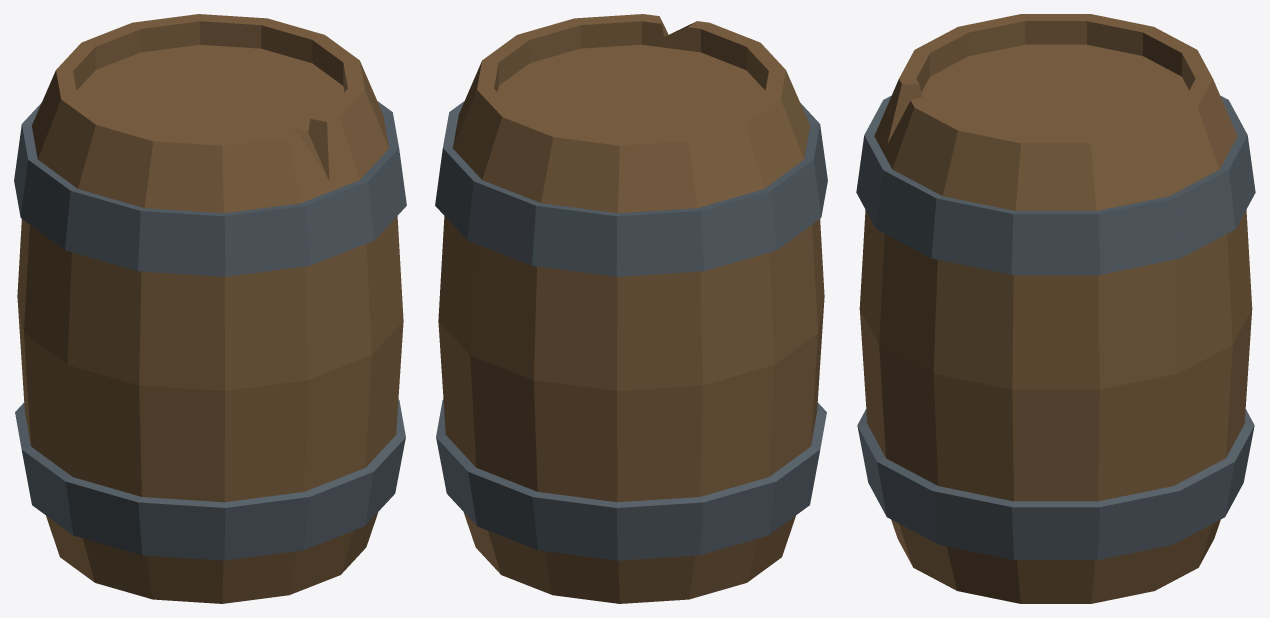
The model's file is Barrel_1_Brown.fbx.
The picture shows the model from 3 angles, left to right: view 1: azimuth 30°, elevation 25°; view 2: azimuth 150°, elevation 25°; view 3: azimuth 270°, elevation 25°; orthographic projection.
Parts seen in each view (by area): view 1: Barrel_1_Brown_Part_1, Barrel_1_Brown_Part_2; view 2: Barrel_1_Brown_Part_1, Barrel_1_Brown_Part_2; view 3: Barrel_1_Brown_Part_1, Barrel_1_Brown_Part_2.
Boxes of the visible parts, left/top/right/bottom form: Barrel_1_Brown_Part_1: left=17, top=14, right=403, bottom=603; Barrel_1_Brown_Part_2: left=14, top=101, right=406, bottom=560; Barrel_1_Brown_Part_1: left=438, top=14, right=824, bottom=603; Barrel_1_Brown_Part_2: left=435, top=101, right=827, bottom=560; Barrel_1_Brown_Part_1: left=859, top=14, right=1252, bottom=603; Barrel_1_Brown_Part_2: left=856, top=95, right=1255, bottom=559.
Size of the model in its own units: 115 by 150 by 118.
